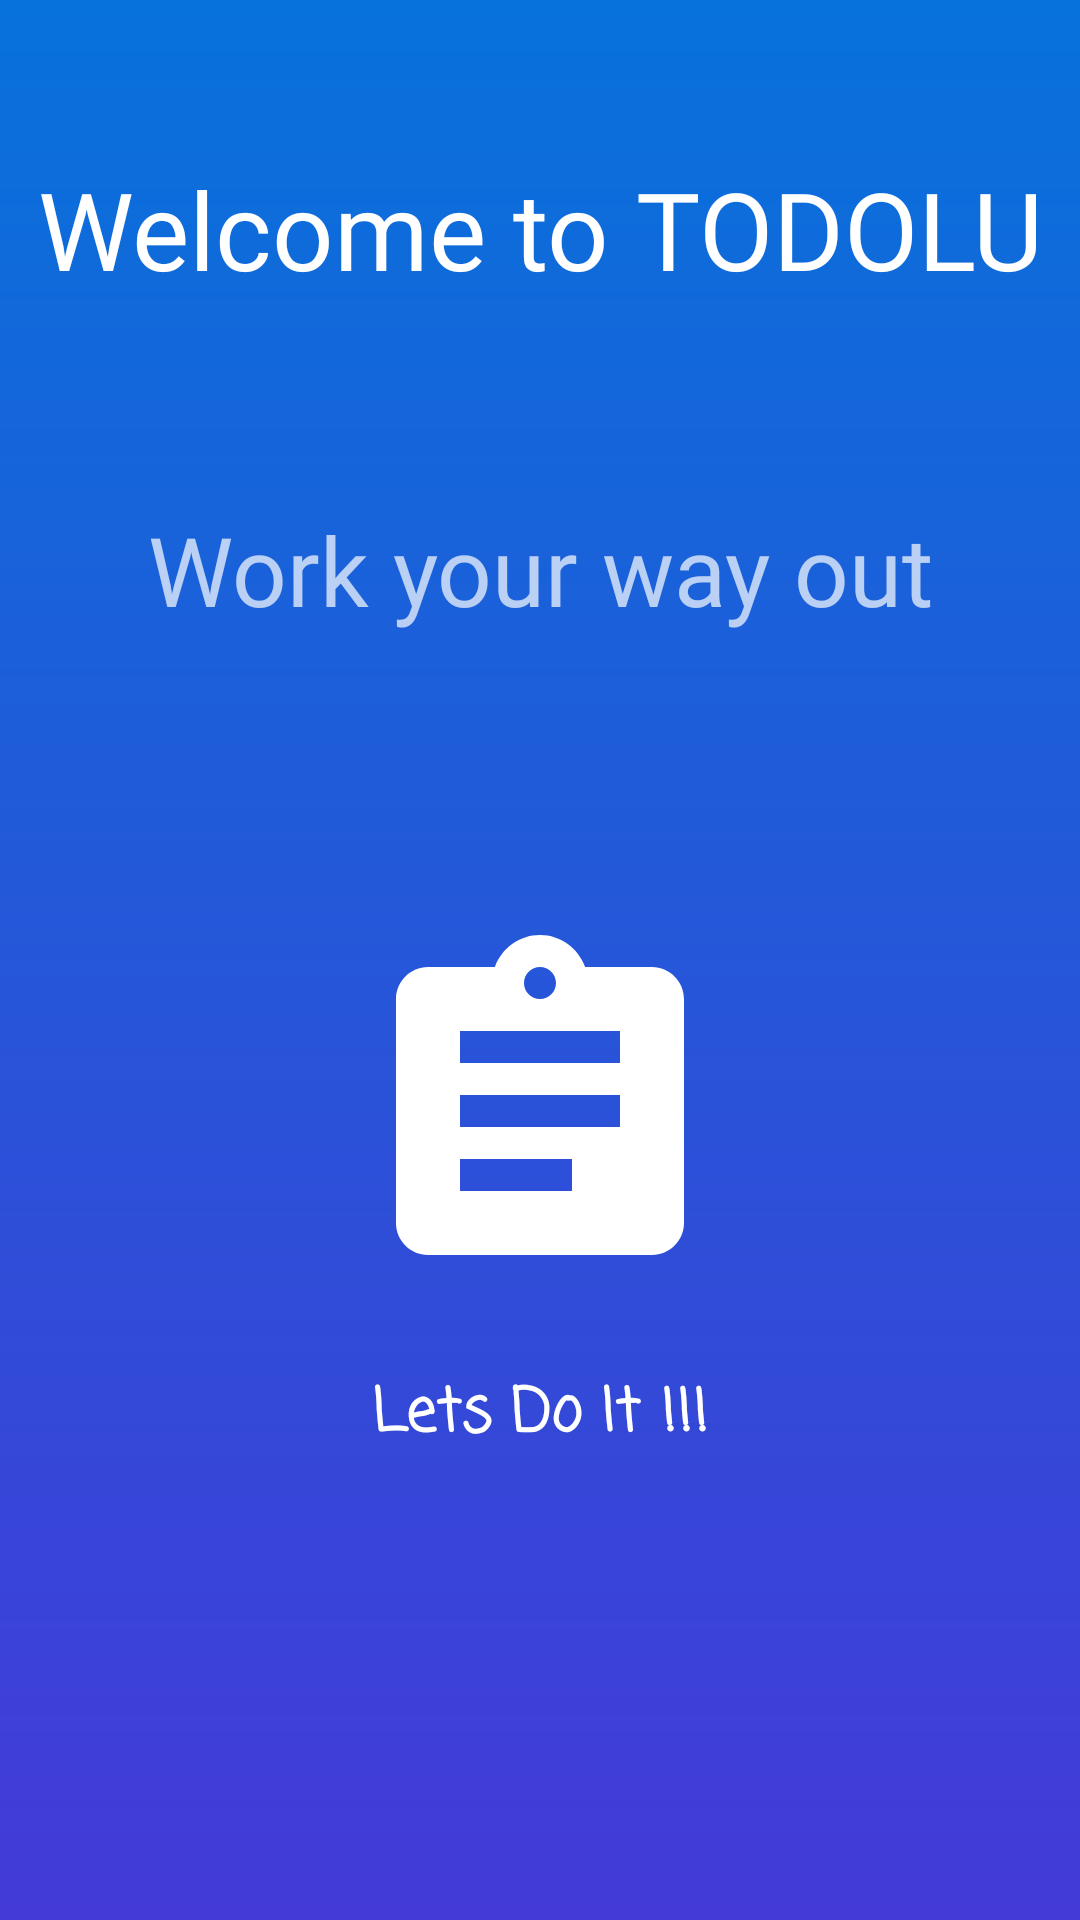

Icon click points for this 1080×1920 phone screenshot, format [x,y]:
assignment: [540,1095]
